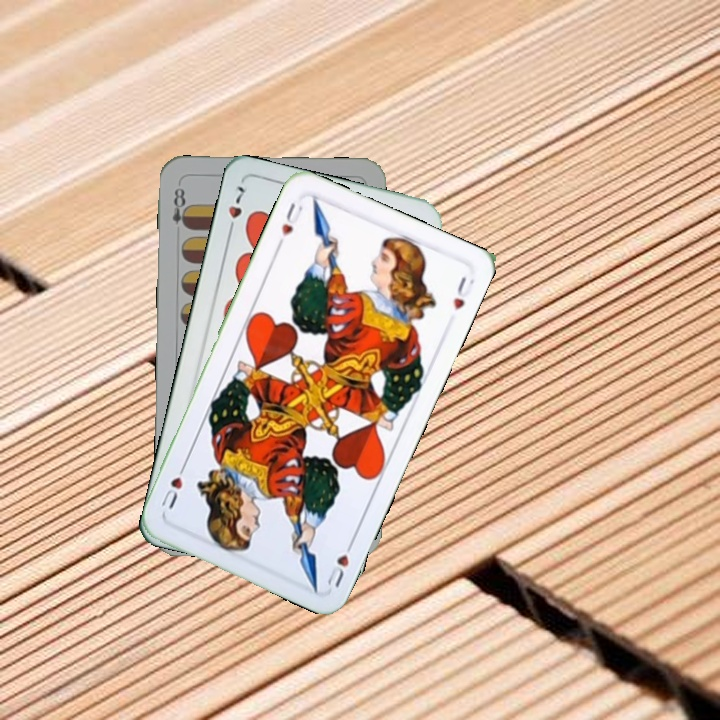E8: (168, 183, 191, 231)
H7: (223, 181, 248, 238)
HU: (323, 535, 357, 591), (273, 198, 306, 250)
